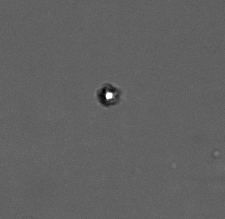Living Cell: (98, 85, 119, 106)
